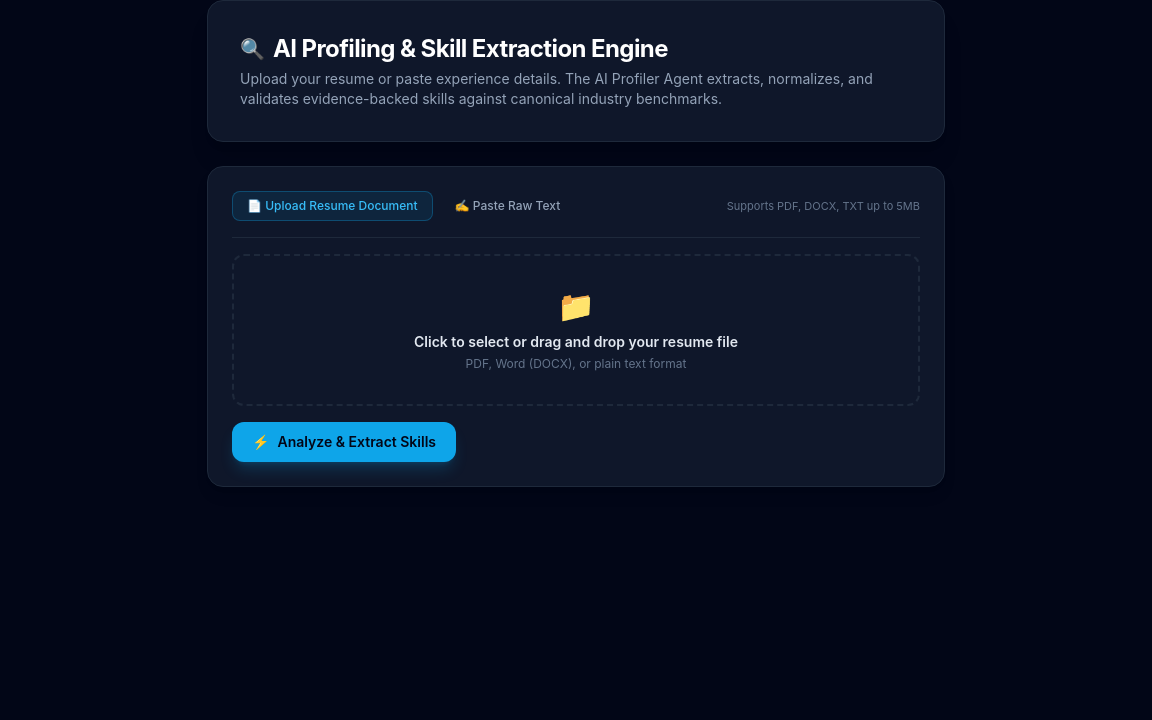
it: LearnerProfilingView Component › switches to raw text paste mode when tab is clicked
Click the button "✍️ Paste Raw Text" at (507, 206), box [441, 192, 574, 220]
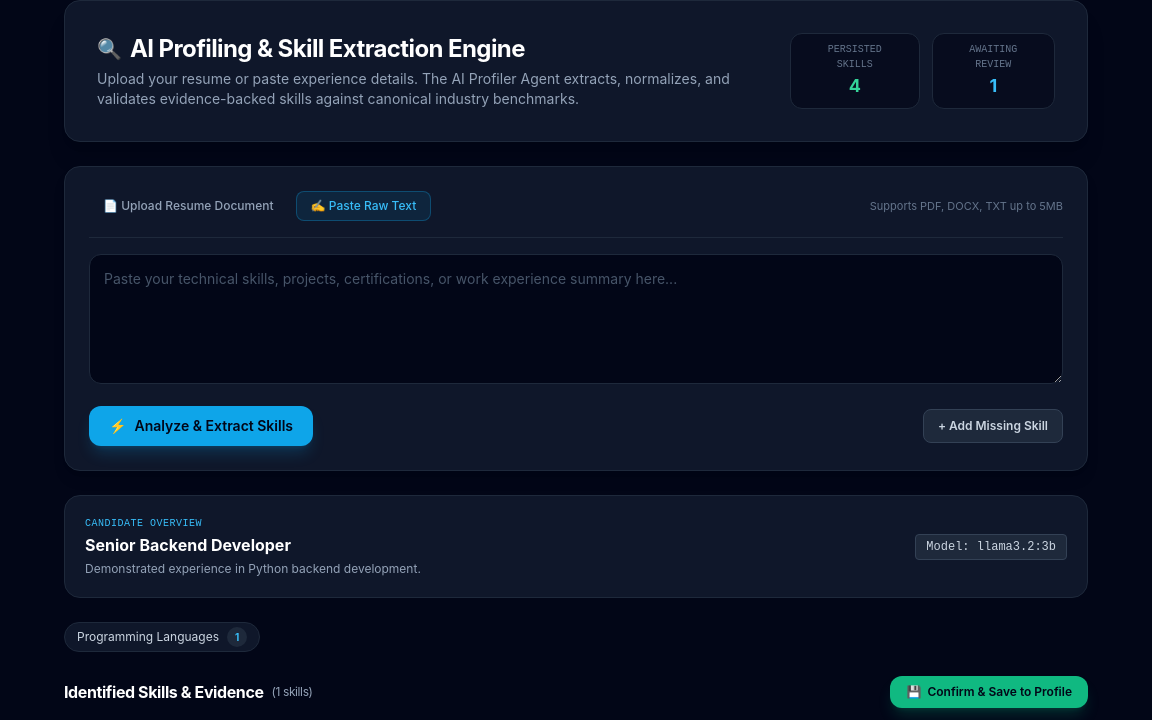
Expected: the text box with placeholder "Paste your technical skills" is shown, [89, 254, 1063, 384]
